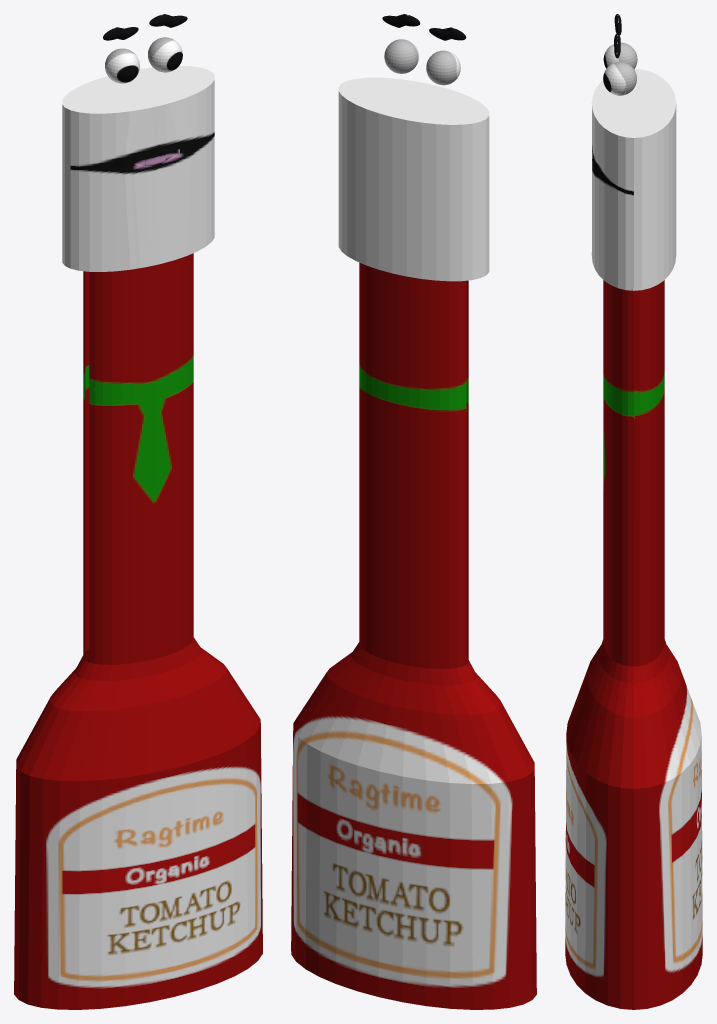
The model's file is ketchup.obj.
3 views of the same model, side by side, from view 1: azimuth 30°, elevation 25°; view 2: azimuth 150°, elevation 25°; view 3: azimuth 270°, elevation 25° (orthographic). The views are drawn at different scales.
Parts seen in each view (by area): view 1: Plane.002; view 2: Plane.002; view 3: Plane.002.
Part boxes in pixels (left/top/right/bottom): Plane.002: left=14, top=14, right=262, bottom=1009; Plane.002: left=291, top=14, right=536, bottom=1009; Plane.002: left=565, top=14, right=702, bottom=1009.
Bounding box in the file's own units: 0.9541 × 3.65 × 0.4921.
